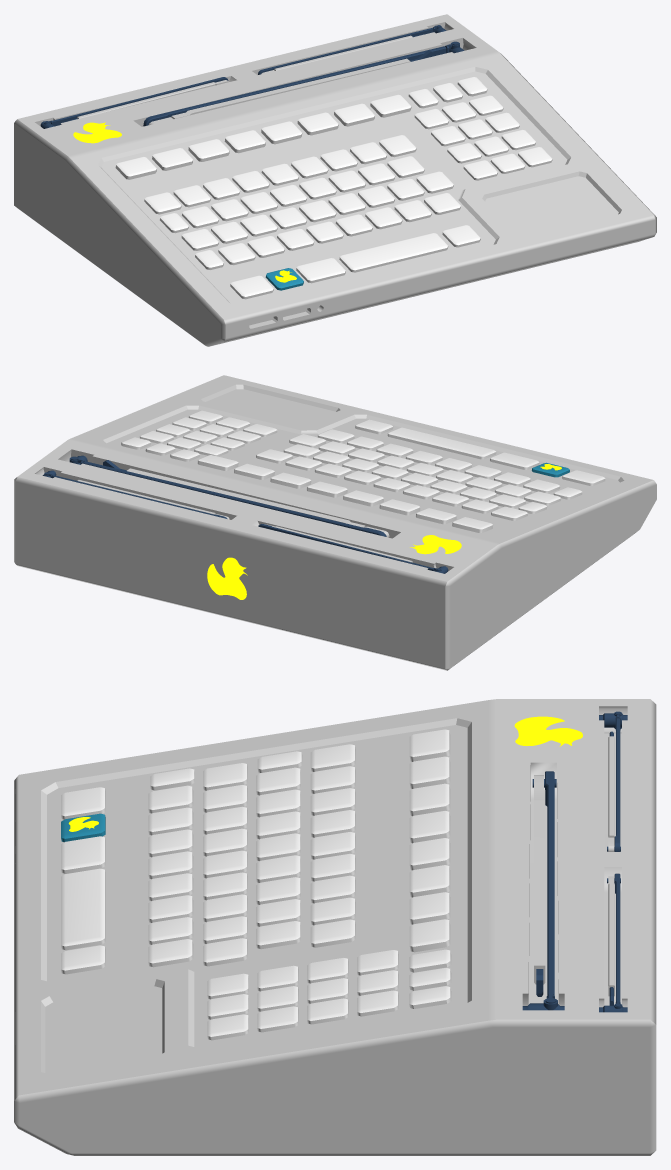
File: Misc_Duckputer_D.glb
3 views of the same model, one above another, from view 1: azimuth 30°, elevation 25°; view 2: azimuth 150°, elevation 25°; view 3: azimuth 270°, elevation 25° (orthographic). The views are drawn at different scales.
Visible parts, largest first — view 1: Misc_Duckputer_D.001; view 2: Misc_Duckputer_D.001; view 3: Misc_Duckputer_D.001.
Boxes of the visible parts, box(x1,y1,x2,y2) form: Misc_Duckputer_D.001: box(14, 14, 656, 346); Misc_Duckputer_D.001: box(14, 375, 656, 670); Misc_Duckputer_D.001: box(14, 699, 656, 1155).
Size of the model in its own units: 0.33 by 0.0664 by 0.2755.
